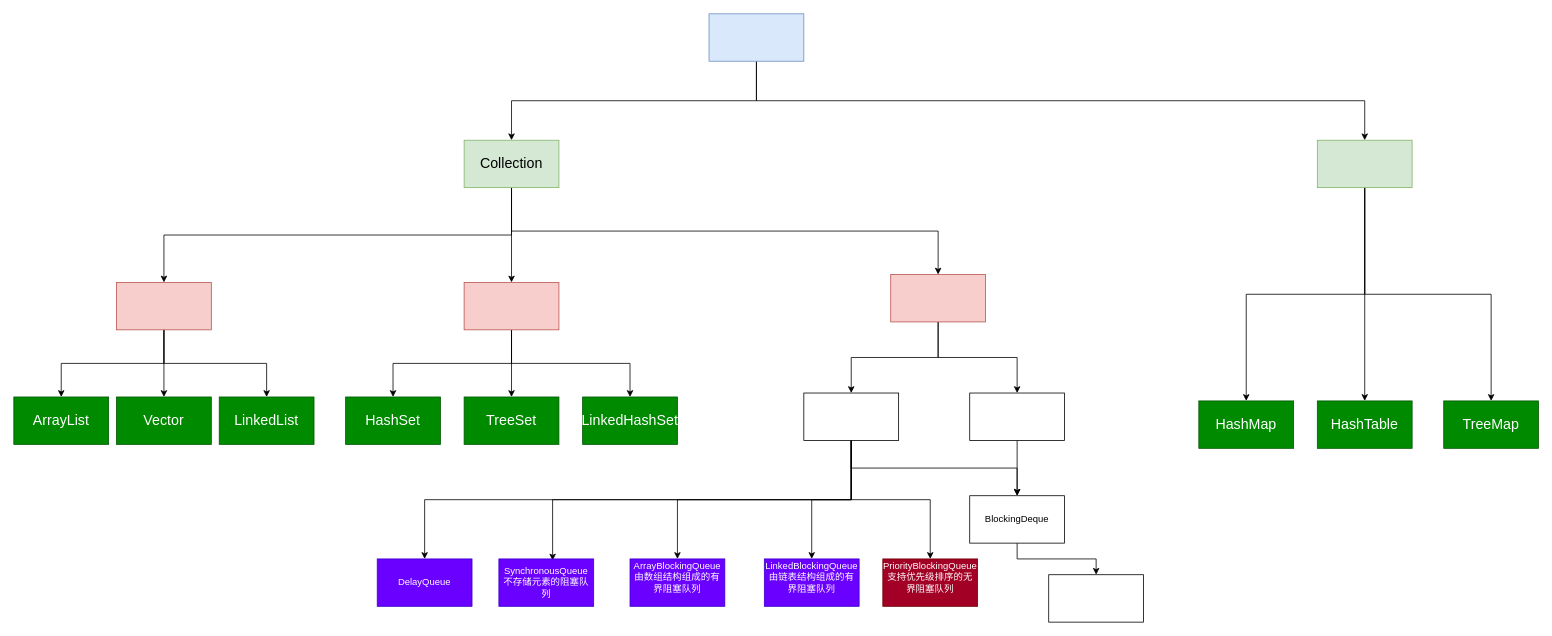
The diagram is 1552 pixels wide and 636 high, and some of its shapes have lost their labels. Here are the shapes that lost their labels. From the top down, the box of each, then its label:
(708, 13, 804, 61): 集合框架
(1317, 139, 1412, 188): Map
(116, 282, 211, 330): List
(463, 282, 559, 330): Set
(890, 274, 986, 322): Queue队列
(803, 392, 899, 440): BlockingQueue
(969, 392, 1065, 440): Deque
(1048, 574, 1144, 622): LinkedBlockingDeque 由链表结构组成的双向阻塞队列
